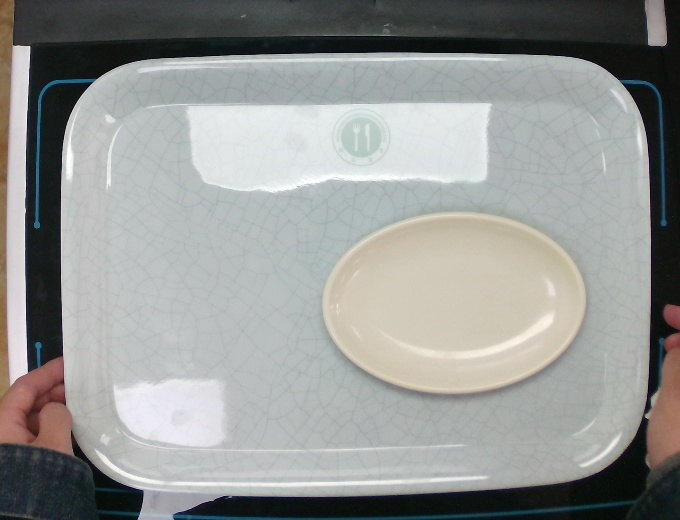JYsf-Tuo_Yuan_Wan: (314, 205, 597, 406)
